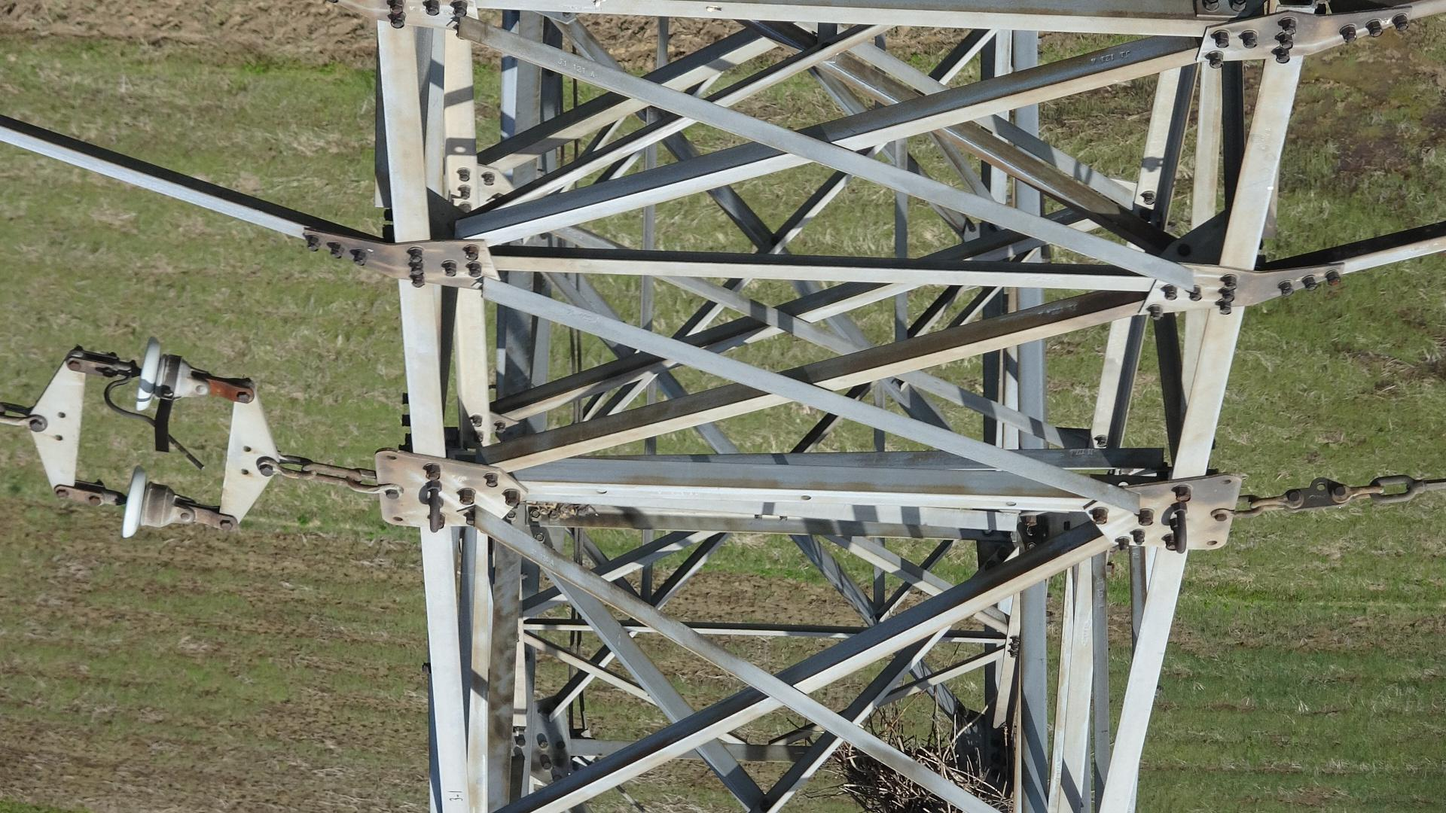nest: (827, 700, 1014, 813)
